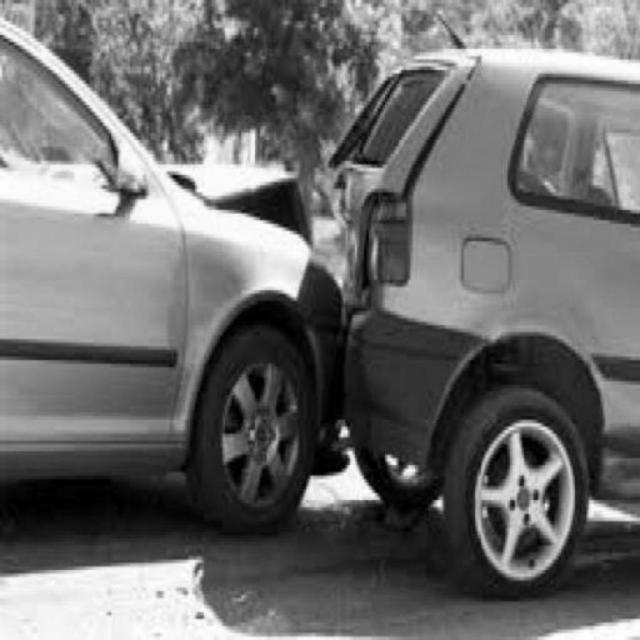accident: (6, 74, 640, 554)
